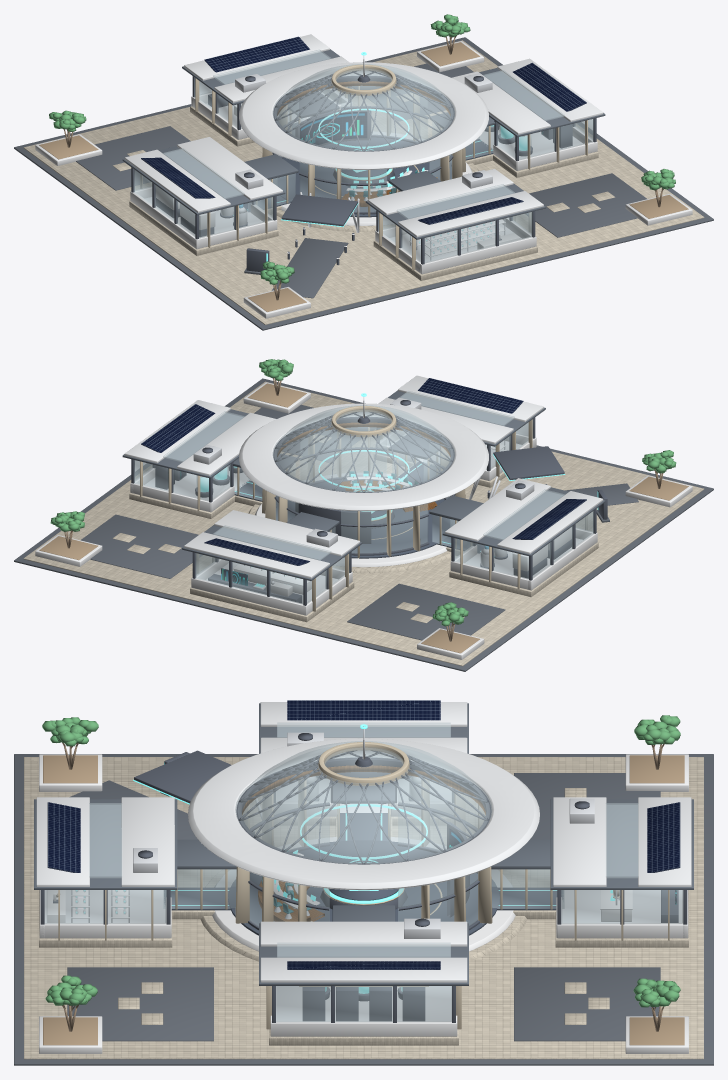
File: n_science_hub.glb
3 views of the same model, one above another, from view 1: azimuth 30°, elevation 25°; view 2: azimuth 150°, elevation 25°; view 3: azimuth 270°, elevation 25° (orthographic). The views are drawn at different scales.
Parts seen in each view (by area): view 1: N_Plinth_TravertineDeck, N_Cutaway_DomeGlassCrown, N_Cutaway_RotundaCanopy, N_Plinth_BasaltCurb, N_Pool_Rim_2, N_Rotunda_DiagridTruss, N_Pool_Rim_1, N_Rotunda_Floor, N_Wing_GlassBack_South_Forage, N_Cutaway_WingRoofL_South_Forage, N_SW_ArrivalPromenade, N_Rotunda_CurtainGlass_2 (+62 smaller); view 2: N_Plinth_TravertineDeck, N_Cutaway_DomeGlassCrown, N_Cutaway_RotundaCanopy, N_Plinth_BasaltCurb, N_Pool_Rim_3, N_Pool_Rim_1, N_Rotunda_DiagridTruss, N_Rotunda_Floor, N_Rotunda_CurtainGlass_1, N_Wing_GlassBack_North_Saline, N_Rotunda_CurtainGlass_3, N_Cutaway_WingRoofL_North_Saline (+62 smaller); view 3: N_Plinth_TravertineDeck, N_Cutaway_DomeGlassCrown, N_Cutaway_RotundaCanopy, N_Plinth_BasaltCurb, N_Pool_Rim_3, N_Pool_Rim_2, N_Wing_GlassBack_East_Carbon, N_Rotunda_DiagridTruss, N_Rotunda_LouvreFins, N_Rotunda_Floor, N_Cutaway_WingRoofL_East_Carbon, N_Cutaway_WingRoofL_North_Saline (+75 smaller).
Part boxes in pixels (left/top/right/bottom): N_Plinth_TravertineDeck: left=23, top=40, right=704, bottom=324; N_Cutaway_DomeGlassCrown: left=272, top=64, right=455, bottom=151; N_Cutaway_RotundaCanopy: left=239, top=62, right=488, bottom=169; N_Plinth_BasaltCurb: left=14, top=37, right=713, bottom=330; N_Pool_Rim_2: left=526, top=173, right=646, bottom=237; N_Rotunda_DiagridTruss: left=275, top=70, right=452, bottom=151; N_Pool_Rim_1: left=76, top=126, right=190, bottom=190; N_Rotunda_Floor: left=270, top=137, right=451, bottom=217; N_Wing_GlassBack_South_Forage: left=424, top=212, right=532, bottom=262; N_Cutaway_WingRoofL_South_Forage: left=367, top=168, right=513, bottom=215; N_SW_ArrivalPromenade: left=272, top=238, right=348, bottom=298; N_Rotunda_CurtainGlass_2: left=300, top=162, right=386, bottom=212; N_Plinth_TravertineDeck: left=23, top=381, right=704, bottom=666; N_Cutaway_DomeGlassCrown: left=272, top=405, right=455, bottom=492; N_Cutaway_RotundaCanopy: left=239, top=403, right=488, bottom=511; N_Plinth_BasaltCurb: left=14, top=378, right=713, bottom=671; N_Pool_Rim_3: left=81, top=514, right=201, bottom=578; N_Pool_Rim_1: left=347, top=583, right=505, bottom=640; N_Rotunda_DiagridTruss: left=275, top=412, right=452, bottom=492; N_Rotunda_Floor: left=276, top=477, right=457, bottom=558; N_Rotunda_CurtainGlass_1: left=341, top=504, right=427, bottom=553; N_Wing_GlassBack_North_Saline: left=195, top=553, right=303, bottom=604; N_Rotunda_CurtainGlass_3: left=300, top=427, right=386, bottom=482; N_Cutaway_WingRoofL_North_Saline: left=214, top=510, right=360, bottom=556; N_Plinth_TravertineDeck: left=24, top=757, right=703, bottom=1059; N_Cutaway_DomeGlassCrown: left=235, top=741, right=492, bottom=864; N_Cutaway_RotundaCanopy: left=188, top=738, right=539, bottom=890; N_Plinth_BasaltCurb: left=14, top=754, right=713, bottom=1065; N_Pool_Rim_3: left=514, top=967, right=660, bottom=1041; N_Pool_Rim_2: left=67, top=967, right=213, bottom=1041; N_Wing_GlassBack_East_Carbon: left=276, top=986, right=451, bottom=1021; N_Rotunda_DiagridTruss: left=238, top=750, right=489, bottom=864; N_Rotunda_LouvreFins: left=235, top=779, right=492, bottom=923; N_Rotunda_Floor: left=228, top=840, right=499, bottom=935; N_Cutaway_WingRoofL_East_Carbon: left=260, top=921, right=467, bottom=946; N_Cutaway_WingRoofL_North_Saline: left=553, top=797, right=606, bottom=886.
Size of the model in its own units: 44 by 12.26 by 42.
Materials: 29 (5 with a texture image).
